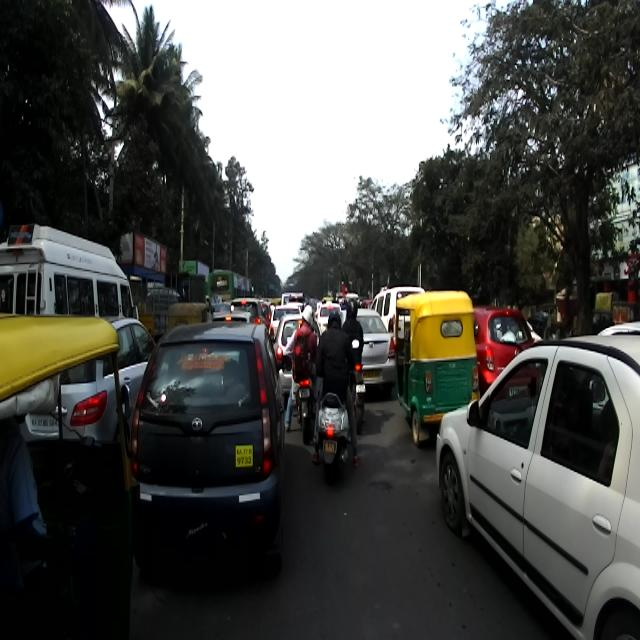car ahead at: (429, 324, 640, 640), (136, 317, 288, 589)
motorcycle ahead at: (312, 392, 354, 478)
